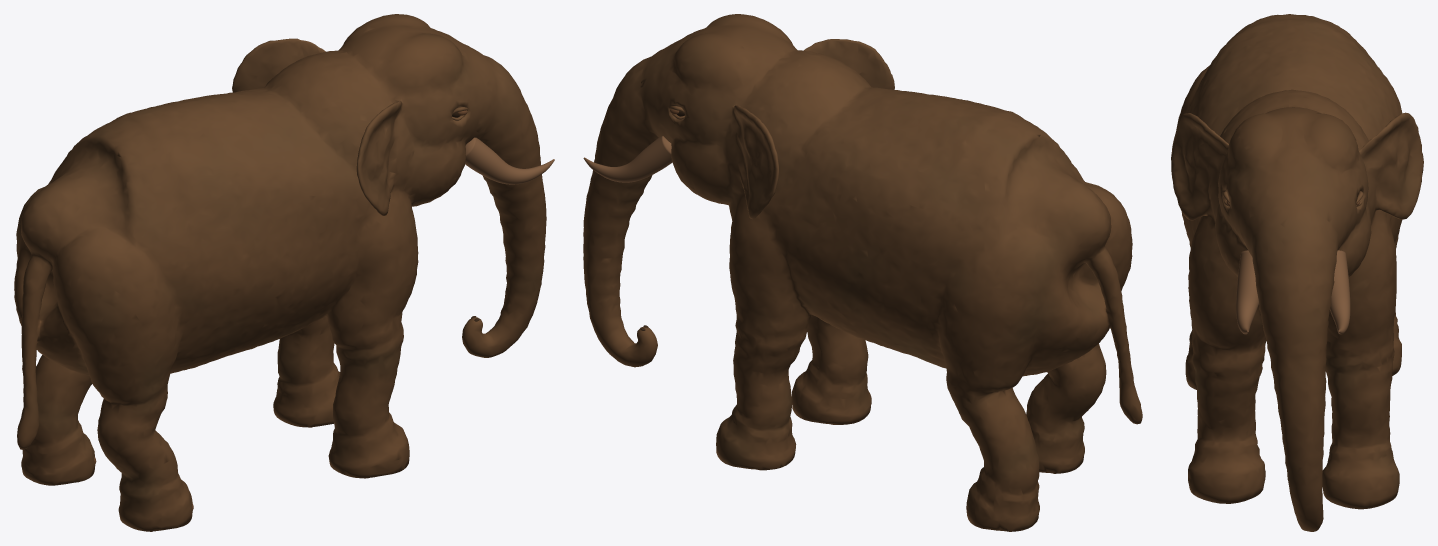
File: rerupa-gajah.glb
3 views of the same model, side by side, from view 1: azimuth 30°, elevation 25°; view 2: azimuth 150°, elevation 25°; view 3: azimuth 270°, elevation 25° (orthographic). The views are drawn at different scales.
Parts seen in each view (by area): view 1: Perunggu satin | patina hangat, Perunggu | tonjolan aus; view 2: Perunggu satin | patina hangat, Perunggu | tonjolan aus; view 3: Perunggu satin | patina hangat, Perunggu | tonjolan aus.
Boxes of the visible parts, x1,y1,x2,y2 form: Perunggu satin | patina hangat: (14, 14, 546, 531); Perunggu | tonjolan aus: (465, 137, 554, 184); Perunggu satin | patina hangat: (583, 14, 1142, 531); Perunggu | tonjolan aus: (583, 136, 672, 182); Perunggu satin | patina hangat: (1171, 14, 1423, 531); Perunggu | tonjolan aus: (1236, 250, 1350, 334).
Bounding box in the file's own units: 5.66 × 3.92 × 2.24.
